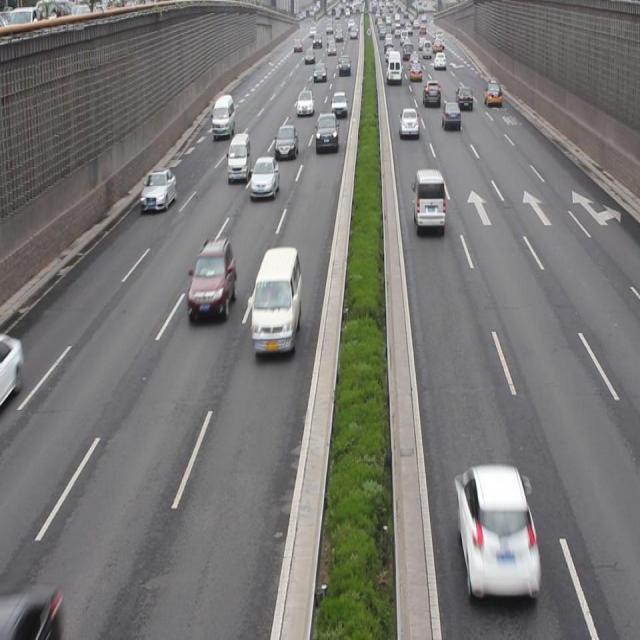car: (453, 465, 538, 590), (188, 242, 235, 320), (141, 169, 178, 210), (248, 158, 278, 196), (314, 112, 339, 152), (275, 124, 298, 158), (398, 108, 418, 137), (441, 102, 460, 128)
truck: (251, 250, 300, 356), (411, 170, 444, 231), (227, 132, 250, 182), (210, 94, 234, 140)
